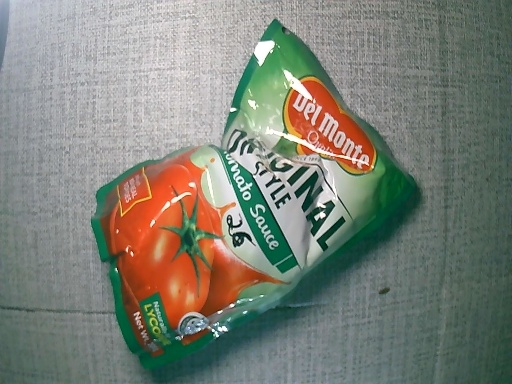plastic: (91, 14, 418, 367)
